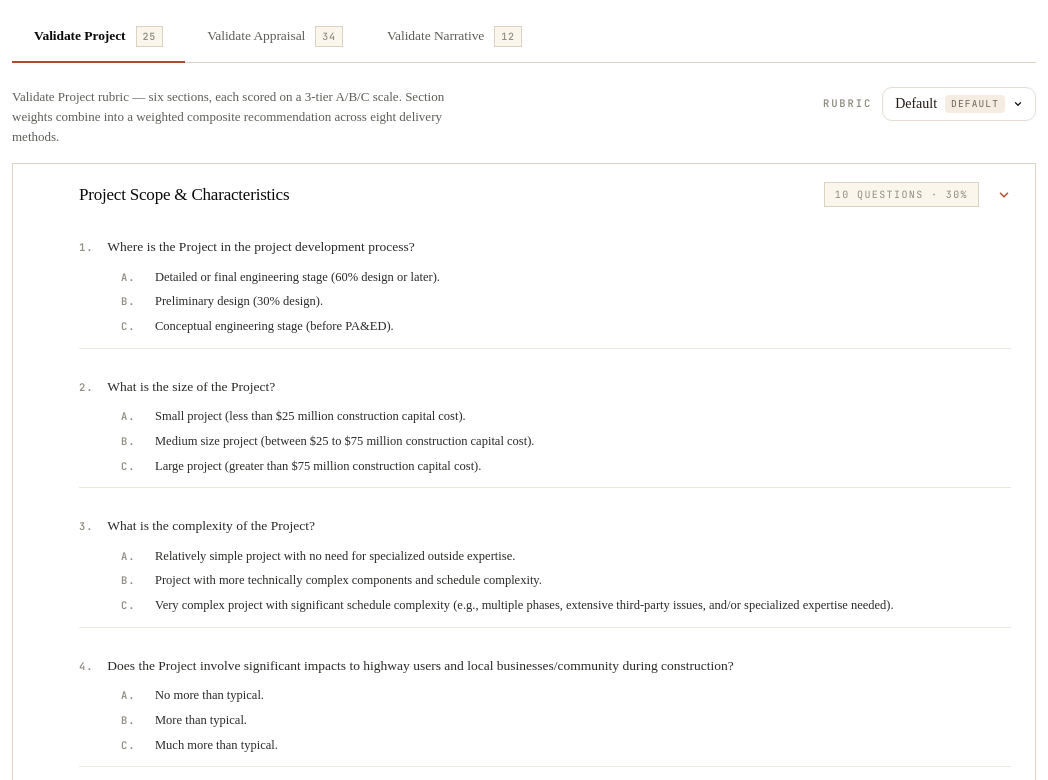
Test: PreviewRubricTabs › defaults to Validate Project and switches to Validate Narrative on click
Check: the text "Validate Project rubric" is shown, box [12,89,444,144]
Click the tab "Validate Narrative 12".
click(454, 38)  # box [365,12,544,63]
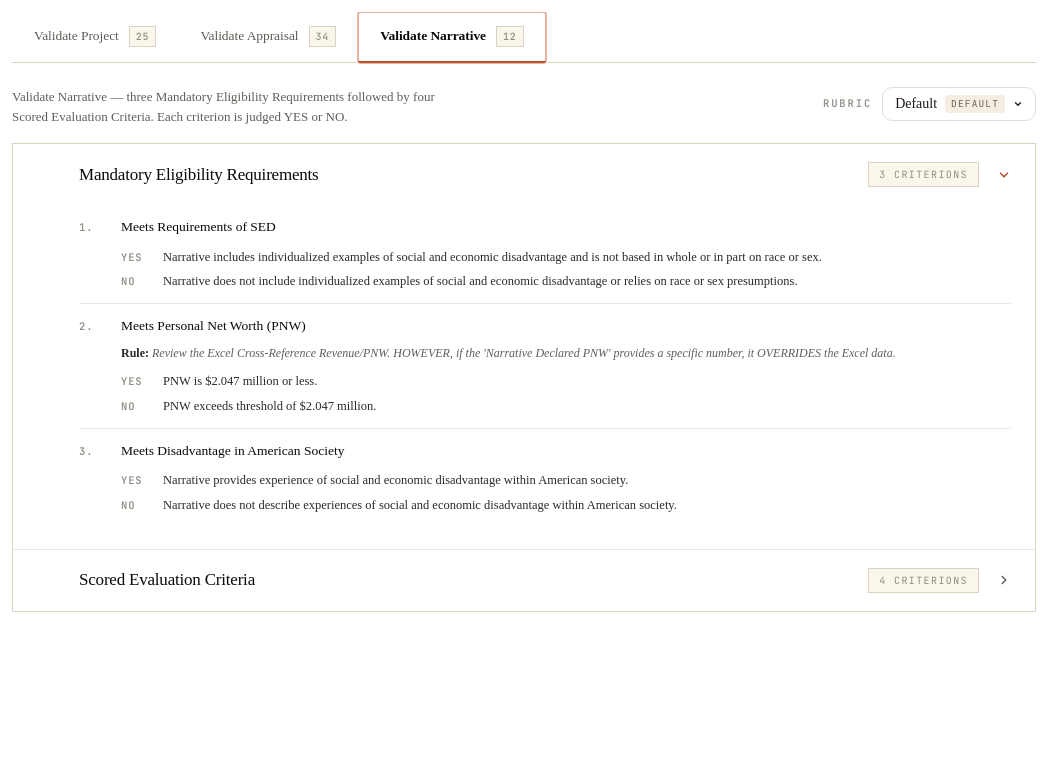
Check: the button "Mandatory Eligibility Requirements" is shown, box [13,144,1035,205]
